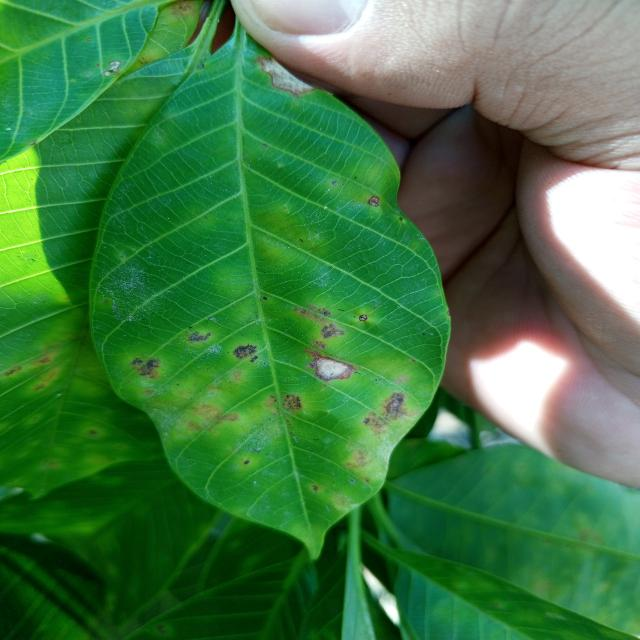Colletotrichum: (368, 196, 379, 207), (359, 314, 368, 322), (262, 297, 267, 300)
Leaf-Blight: (256, 56, 316, 95), (317, 358, 346, 377)
